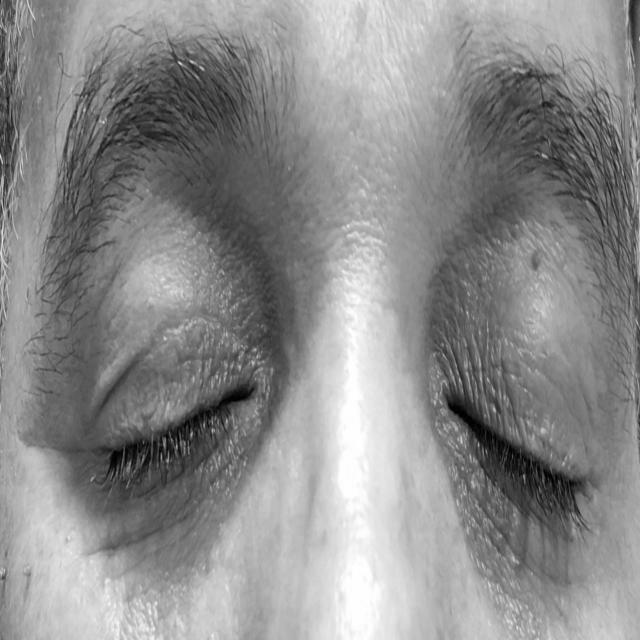real: (55, 82, 619, 585)
